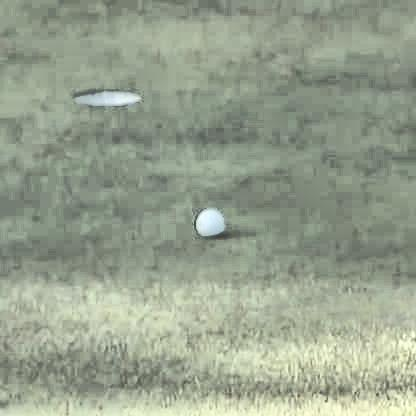golfball: (190, 207, 223, 238)
